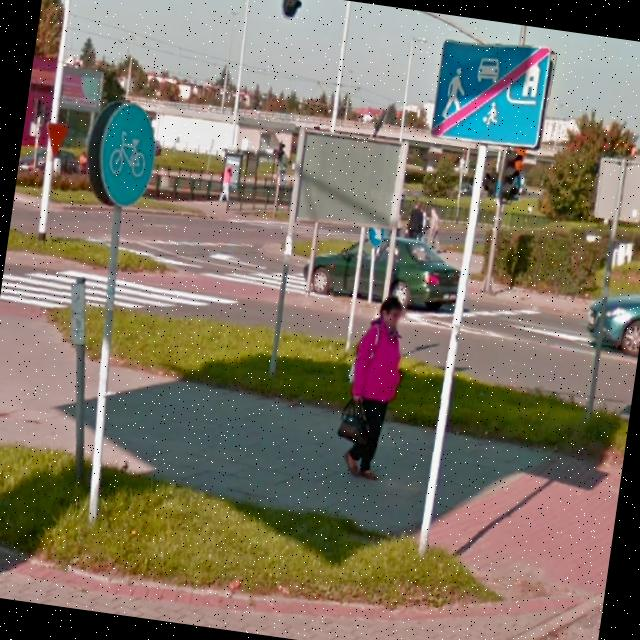Ustap pierwszenstwa: (42, 122, 68, 160)
